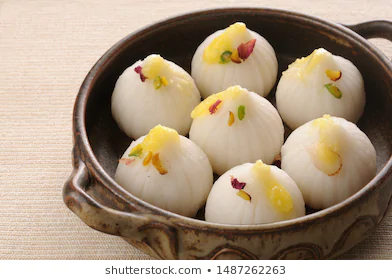modak: (113, 120, 227, 220), (281, 114, 389, 211), (108, 57, 208, 140), (216, 155, 318, 232), (192, 21, 293, 93), (284, 48, 371, 126), (201, 97, 288, 172)
